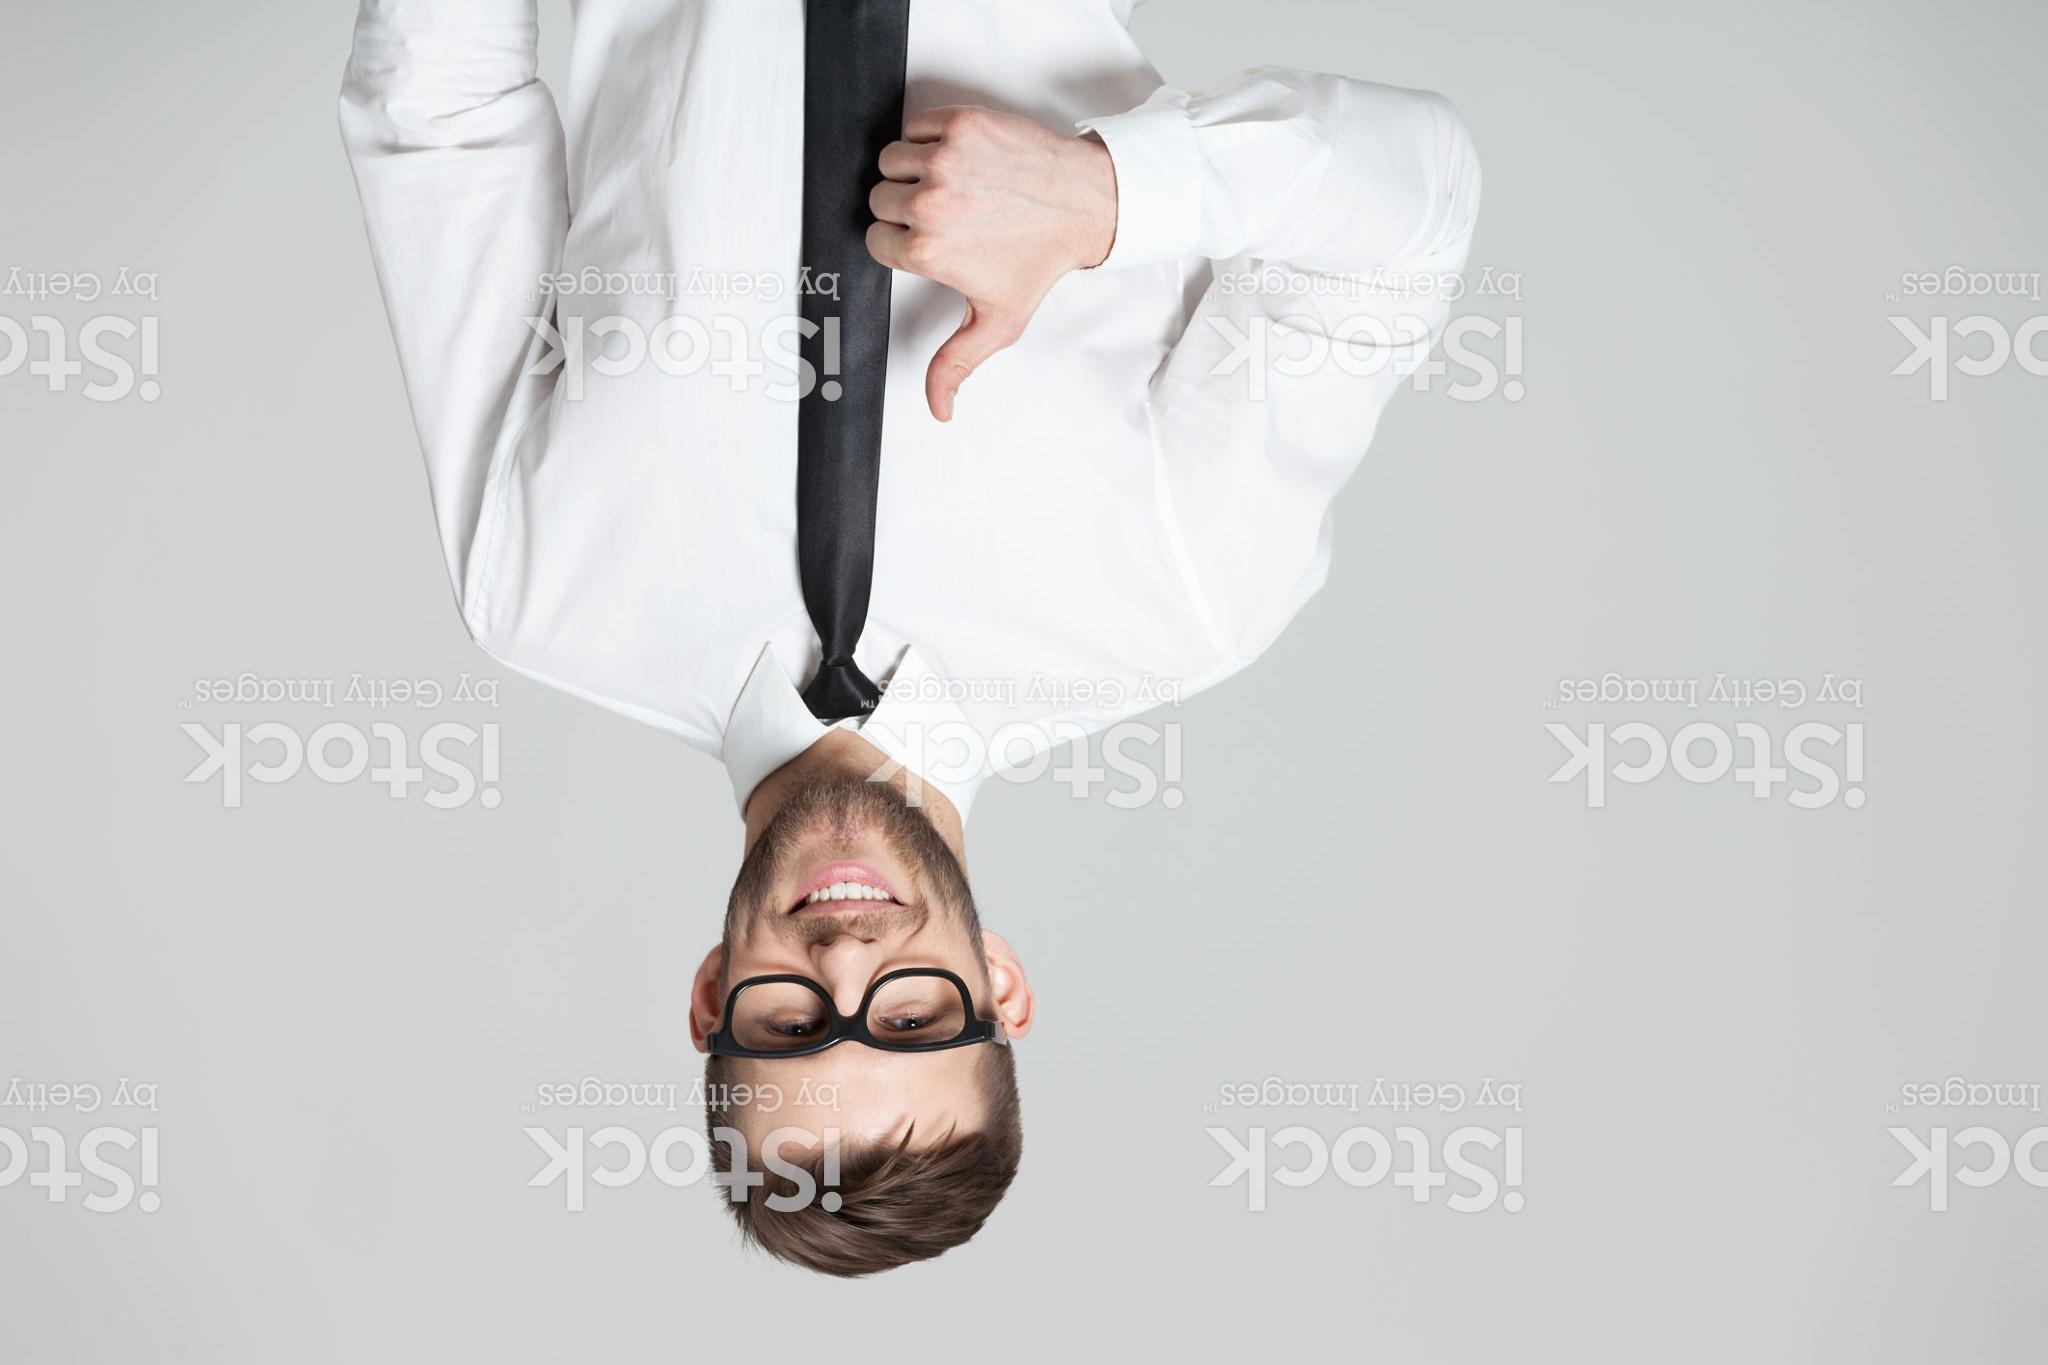thumbsdown: (859, 99, 1058, 424)
